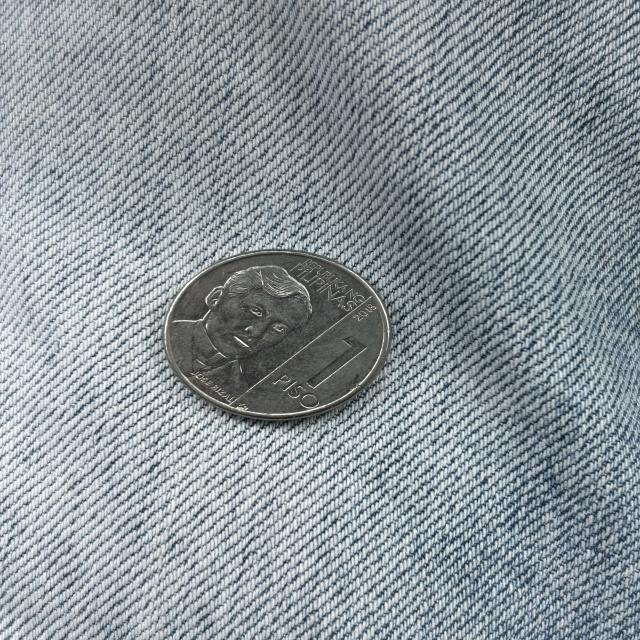1_New_Front: (267, 330, 363, 408)
